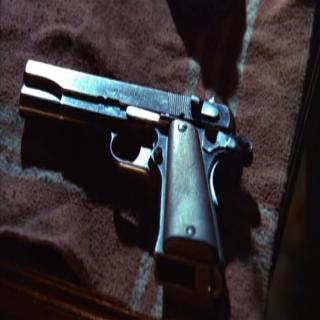gun: (15, 34, 257, 306)
